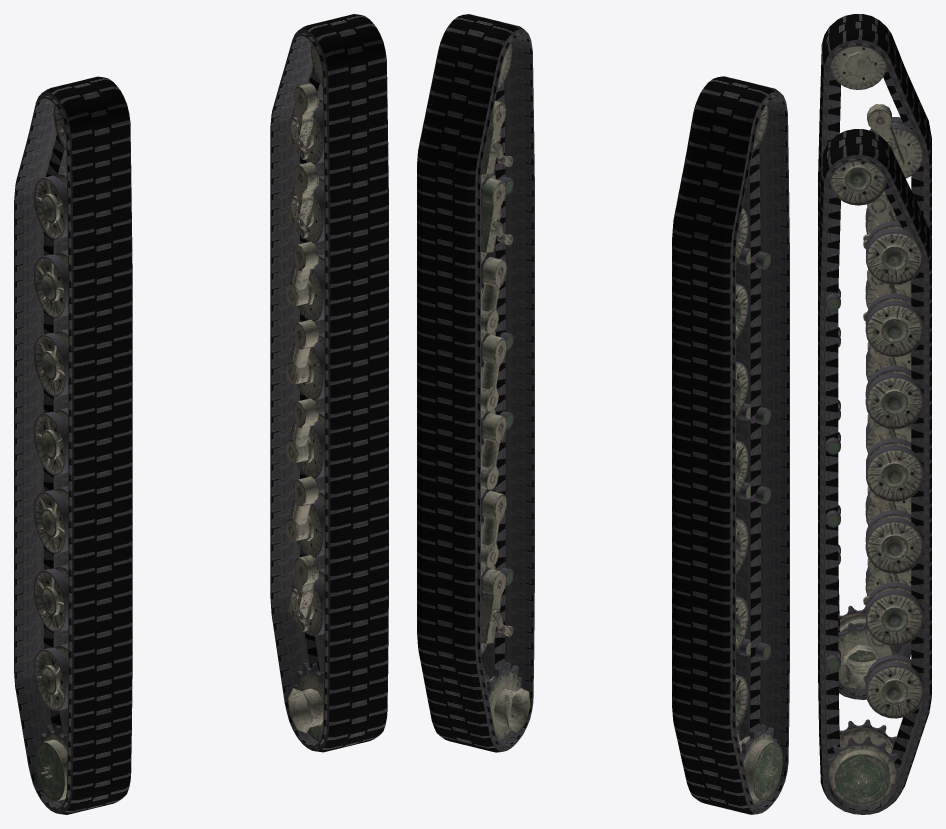
The model's file is Chassis.glb.
The picture shows the model from 3 angles, left to right: view 1: azimuth 30°, elevation 25°; view 2: azimuth 150°, elevation 25°; view 3: azimuth 270°, elevation 25°; orthographic projection. The views are drawn at different scales.
Parts seen in each view (by area): view 1: set_0_group_0, set_1_group_0, set_3_group_0, set_2_group_0; view 2: set_0_group_0, set_1_group_0, set_3_group_0, set_2_group_0; view 3: set_3_group_0, set_1_group_0, set_2_group_0, set_0_group_0.
Boxes of the visible parts, x1=… form: set_0_group_0: x1=14, y1=76, x2=132, y2=814; set_1_group_0: x1=270, y1=14, x2=388, y2=752; set_3_group_0: x1=285, y1=43, x2=324, y2=741; set_2_group_0: x1=34, y1=105, x2=68, y2=804; set_0_group_0: x1=672, y1=76, x2=789, y2=814; set_1_group_0: x1=417, y1=14, x2=534, y2=752; set_3_group_0: x1=481, y1=43, x2=530, y2=742; set_2_group_0: x1=736, y1=105, x2=782, y2=804; set_3_group_0: x1=826, y1=161, x2=923, y2=805; set_1_group_0: x1=818, y1=129, x2=931, y2=814; set_2_group_0: x1=830, y1=46, x2=922, y2=690; set_0_group_0: x1=818, y1=14, x2=931, y2=699.
Bounding box in the file's own units: 3.44 × 7.21 × 1.12.
Materials: 4 (4 with a texture image).
